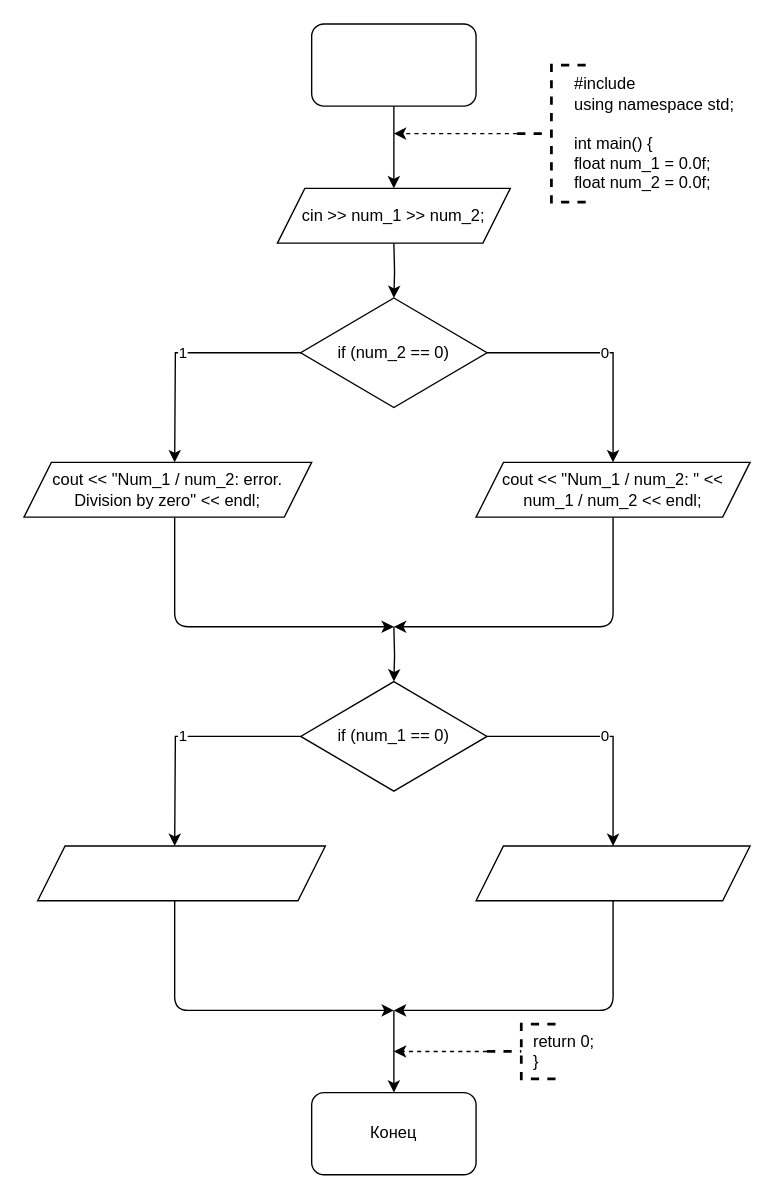
This 774x1199 diagram has some shape labels left out. Here are the shapes that lost their labels. From the top down, the centre of each, then its label:
pixel 393 64: Начало
pixel 180 873: cout << "Num_2 / num_1: error. Division by zero" << endl;
pixel 612 873: cout << "Num_2 / num_1: " << num_2 / num_1 << endl;
